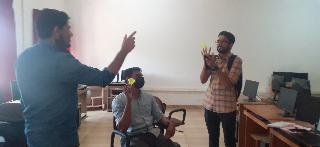shuttlecock: (128, 77, 134, 85)
